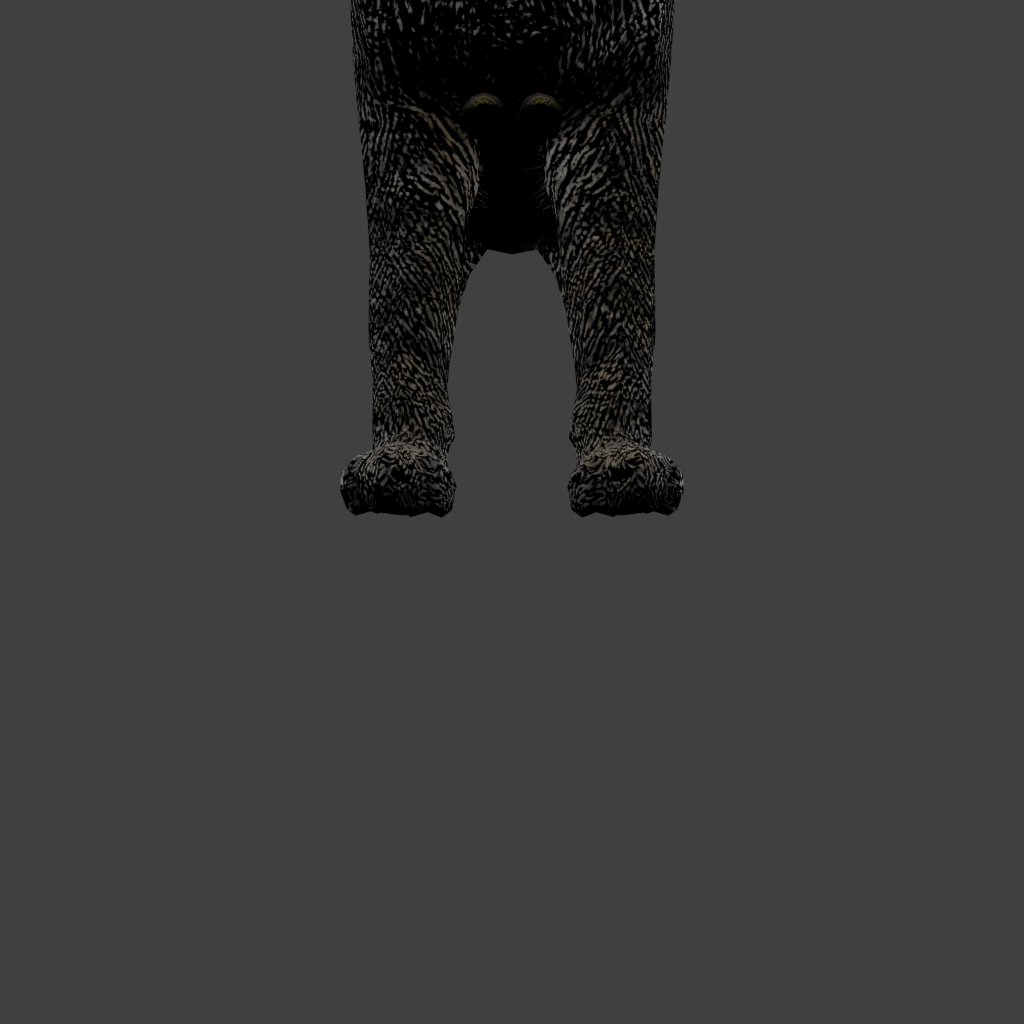Cat: (197, 0, 630, 518)
